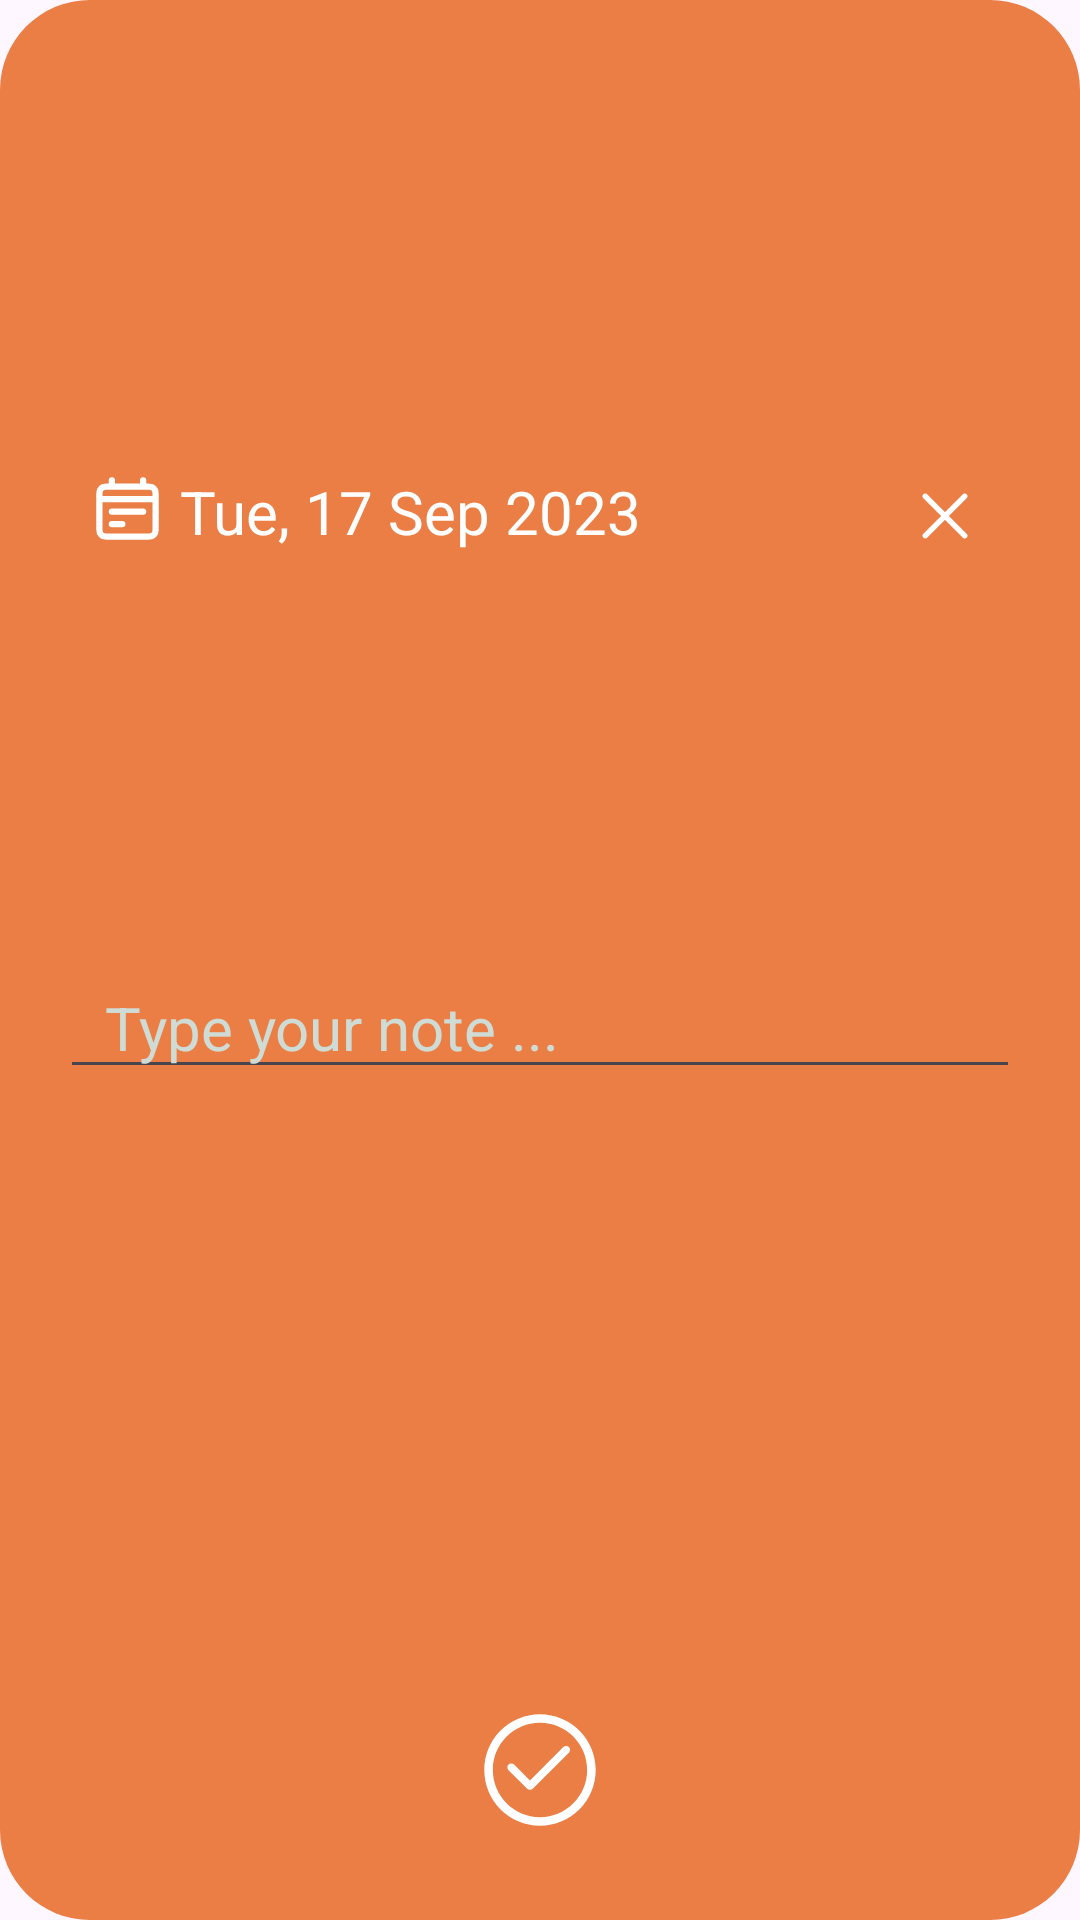

Screen size 1080×1920. Icon name, then its box in pixels as [left=x1, top=y1, right=x2, bottom=y2]:
calendar: [left=96, top=477, right=159, bottom=540]
close: [left=922, top=493, right=968, bottom=539]
done: [left=484, top=1714, right=596, bottom=1826]
